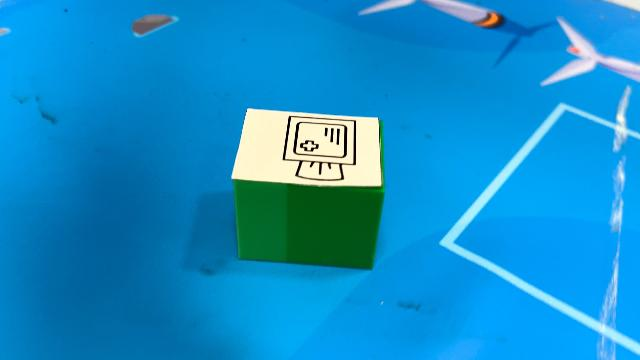napkin: (229, 106, 387, 270)
